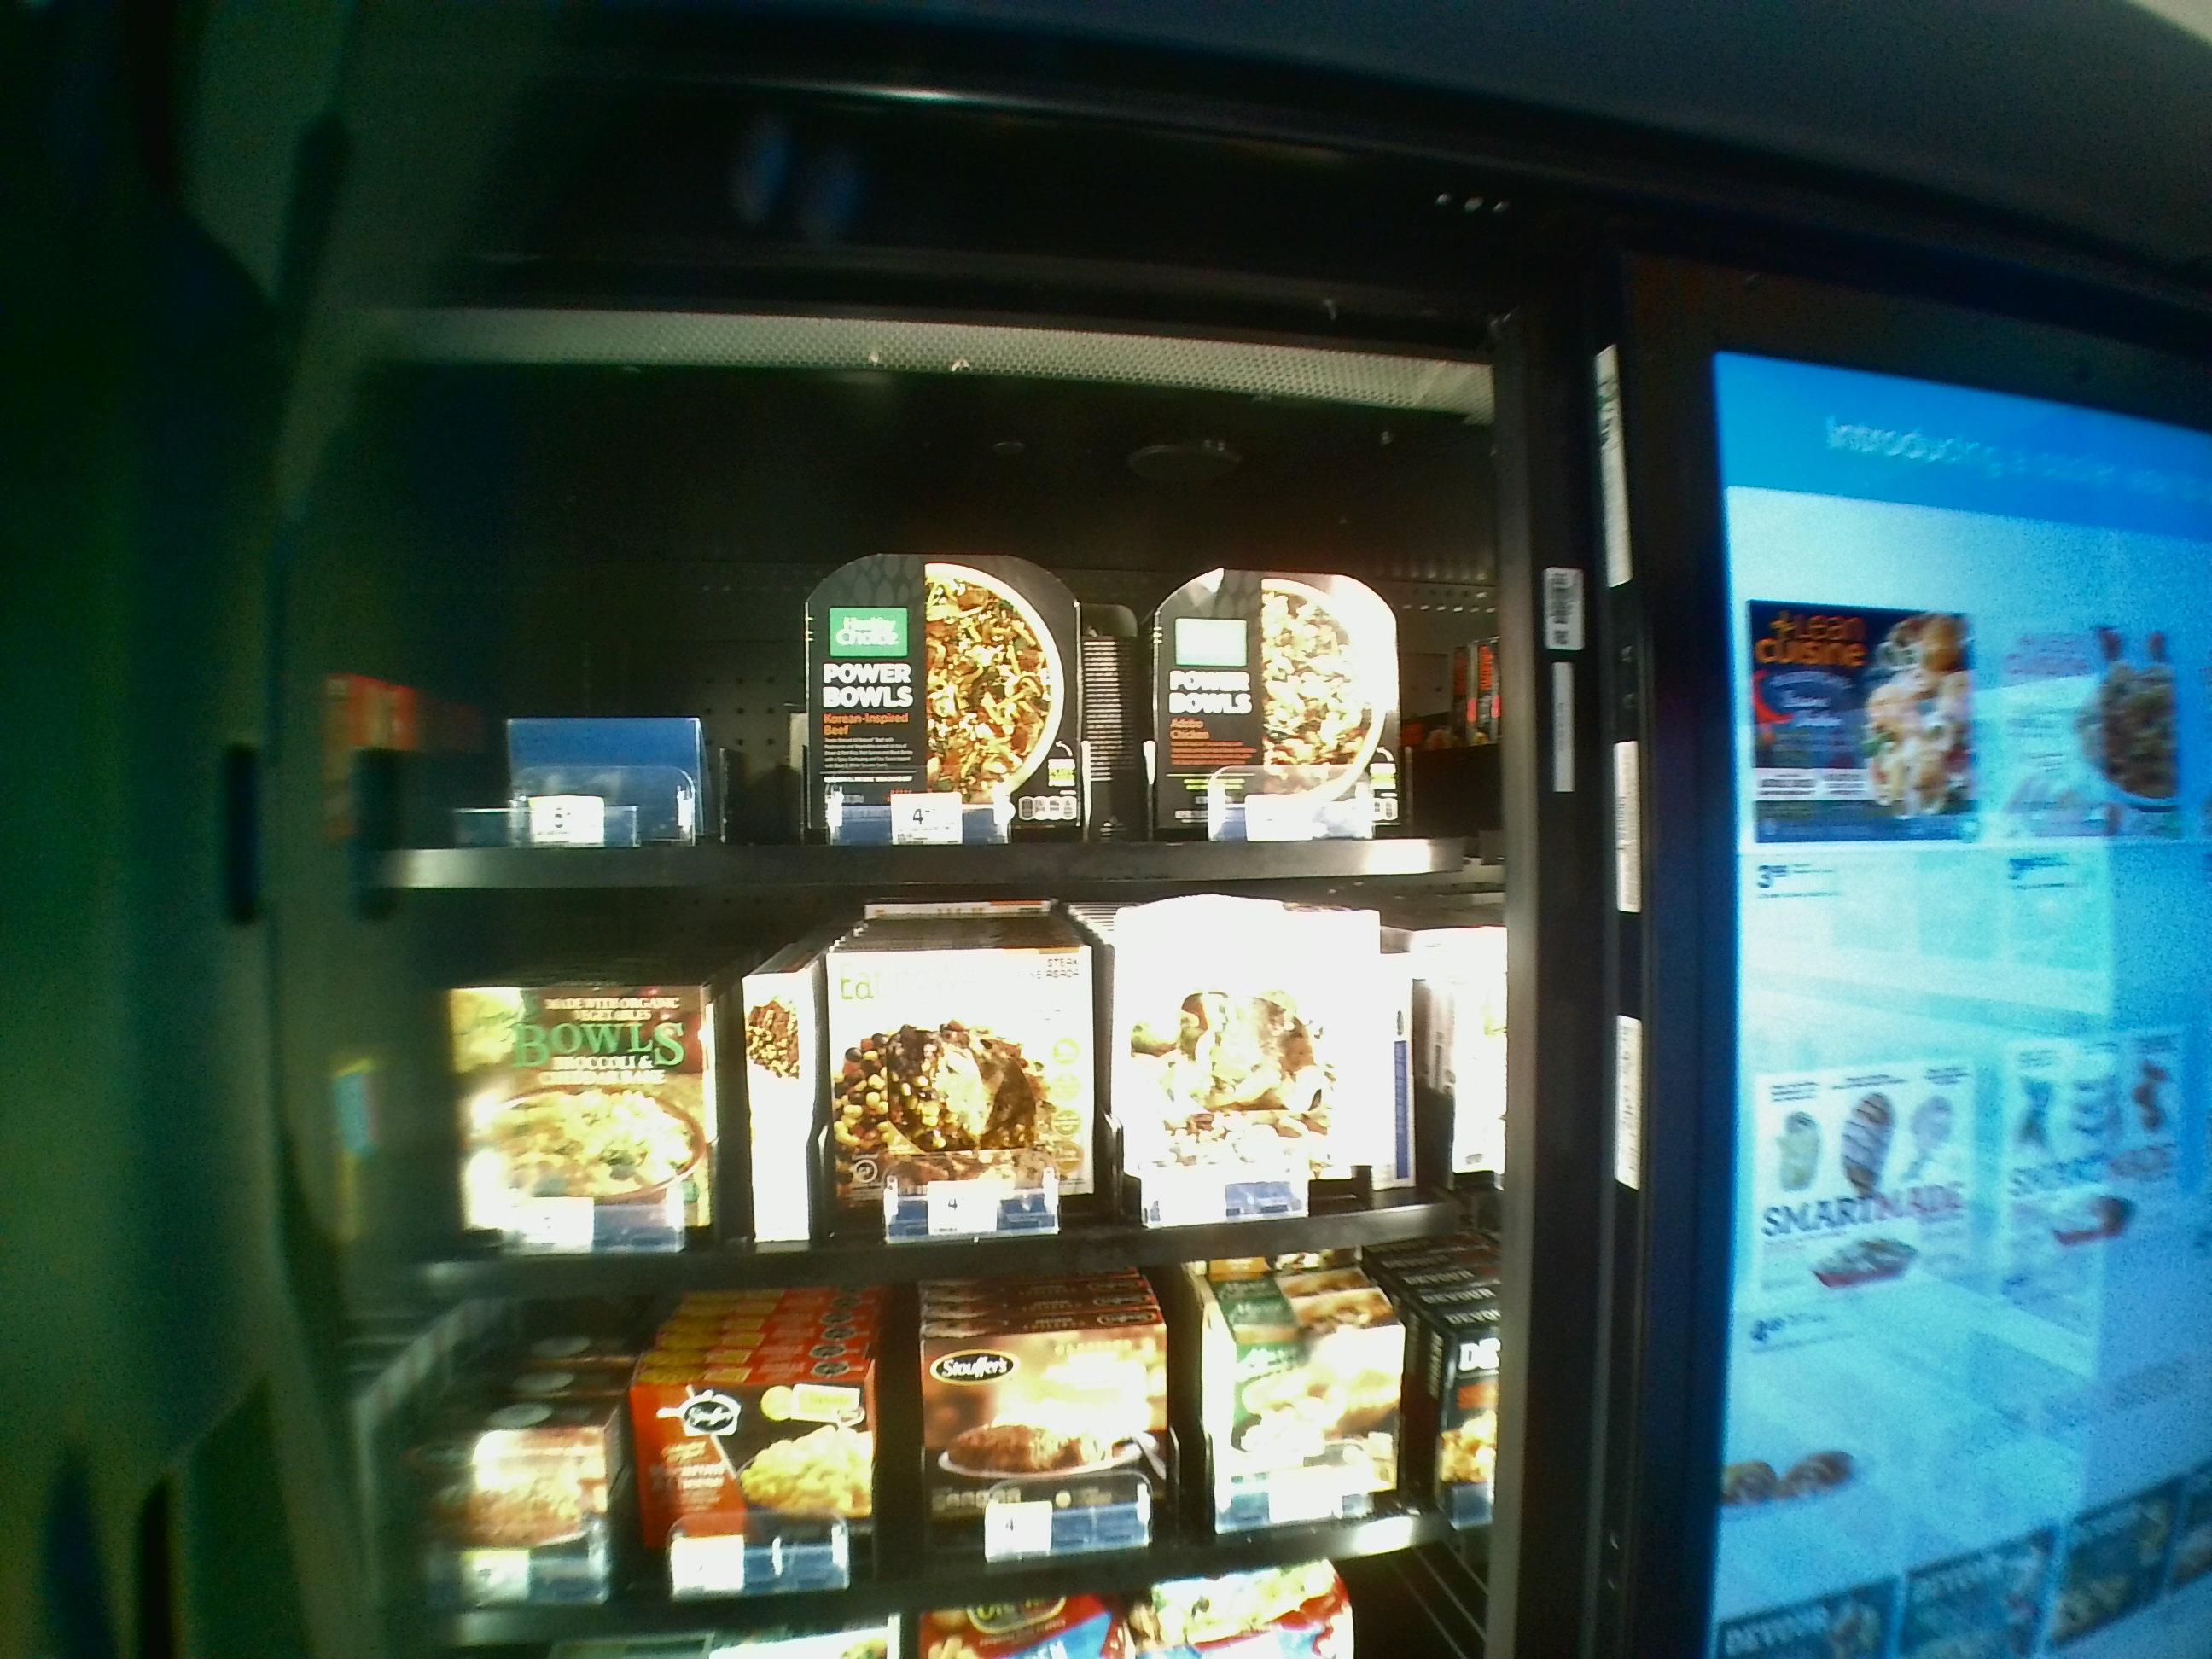shelf: (364, 369, 1493, 884), (366, 899, 1498, 1314)
